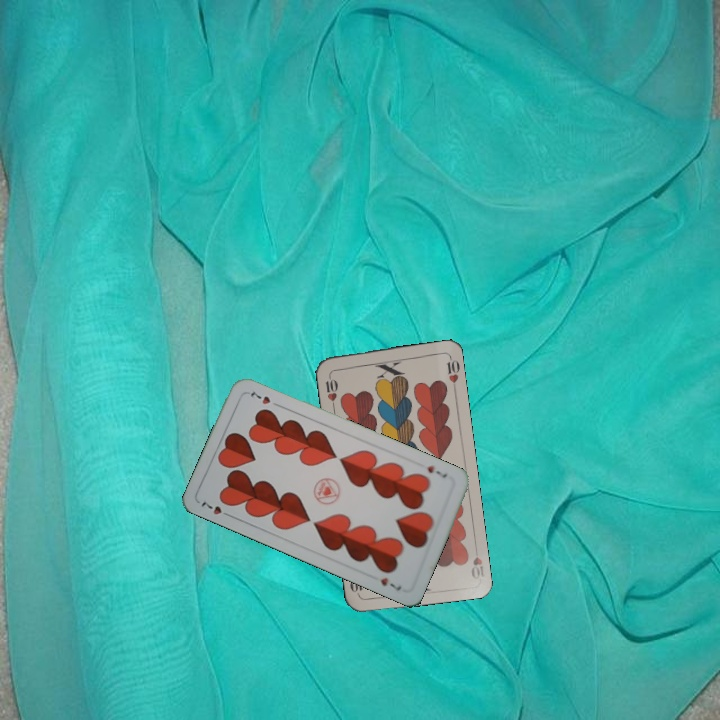H10: (467, 541, 487, 582), (321, 370, 340, 411)
H7: (197, 498, 234, 520), (423, 461, 450, 481)
